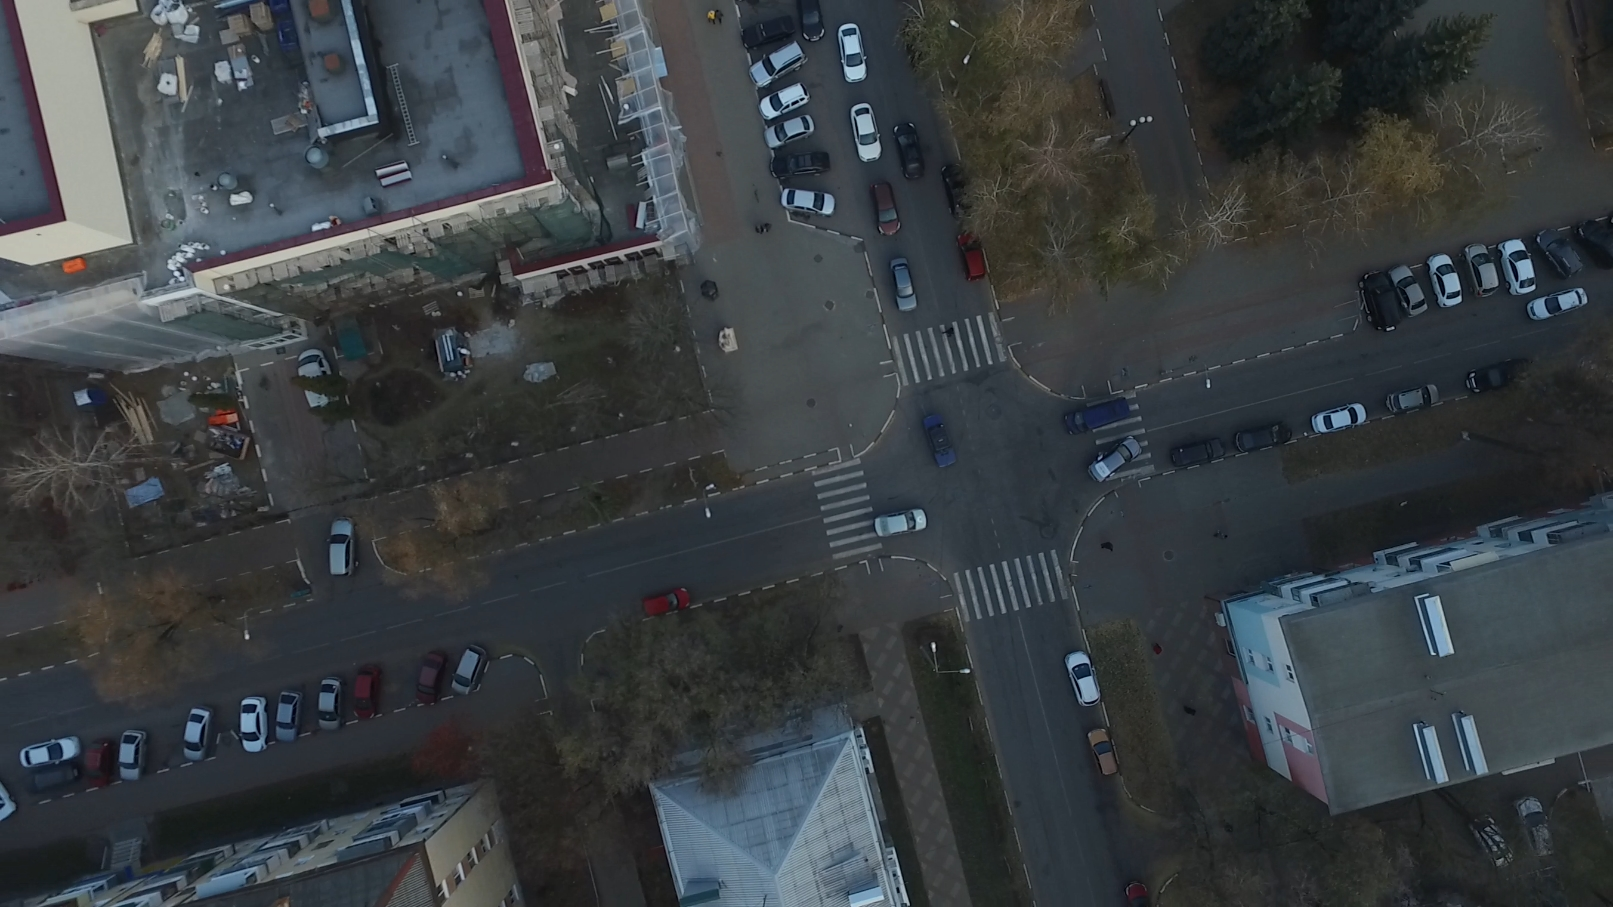car: (1513, 798, 1562, 869), (748, 37, 806, 87), (1535, 229, 1584, 282), (1467, 816, 1514, 870), (230, 692, 269, 757), (1064, 648, 1103, 711), (1089, 434, 1141, 482), (1062, 395, 1130, 432), (320, 517, 359, 580), (1462, 357, 1530, 392), (777, 181, 834, 221), (1359, 269, 1396, 332), (449, 643, 491, 695), (1571, 218, 1613, 270), (16, 733, 79, 767), (769, 146, 831, 181), (409, 649, 446, 704), (1389, 265, 1427, 320), (850, 104, 884, 164), (1426, 252, 1461, 310), (836, 22, 869, 84), (177, 708, 214, 762), (1499, 240, 1533, 298), (348, 667, 383, 722), (113, 726, 151, 779), (79, 736, 116, 789), (757, 83, 811, 118), (1467, 241, 1499, 300), (870, 181, 902, 238), (1525, 288, 1590, 317), (270, 691, 306, 743), (1232, 420, 1288, 451), (763, 113, 818, 145), (890, 257, 919, 315), (1309, 403, 1371, 431), (927, 415, 957, 472), (314, 674, 345, 729), (742, 16, 797, 47), (894, 122, 923, 179), (1169, 437, 1224, 467), (638, 588, 691, 618), (1385, 386, 1440, 414), (871, 509, 927, 536), (1089, 726, 1119, 776), (957, 229, 984, 285), (942, 164, 967, 219), (800, 1, 828, 42), (1121, 882, 1158, 906)
